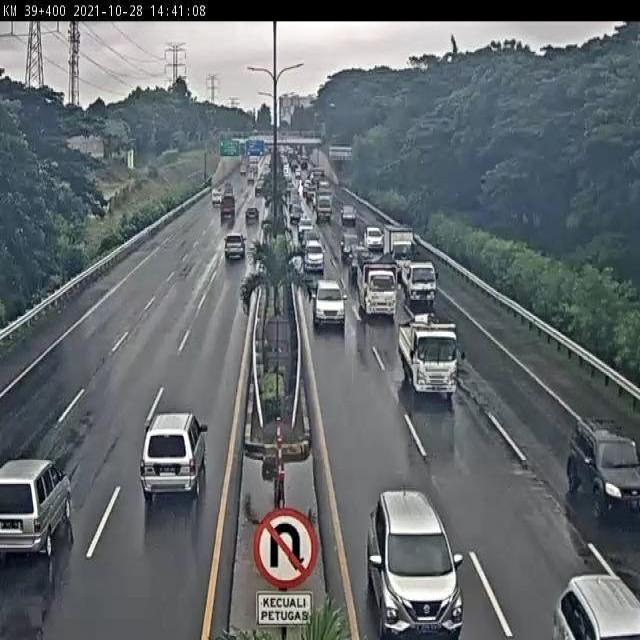car: (365, 489, 464, 640), (566, 417, 638, 515), (311, 280, 347, 331)
mid truck: (0, 459, 74, 561), (139, 412, 208, 501), (223, 232, 247, 260)
truck-m-: (399, 323, 460, 397), (356, 260, 397, 319)
truck-s-: (401, 259, 437, 304)
